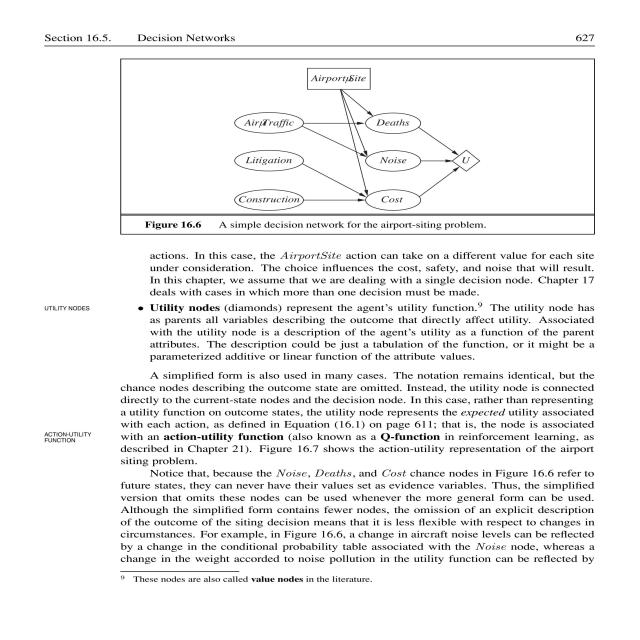diagram: (111, 50, 595, 241)
